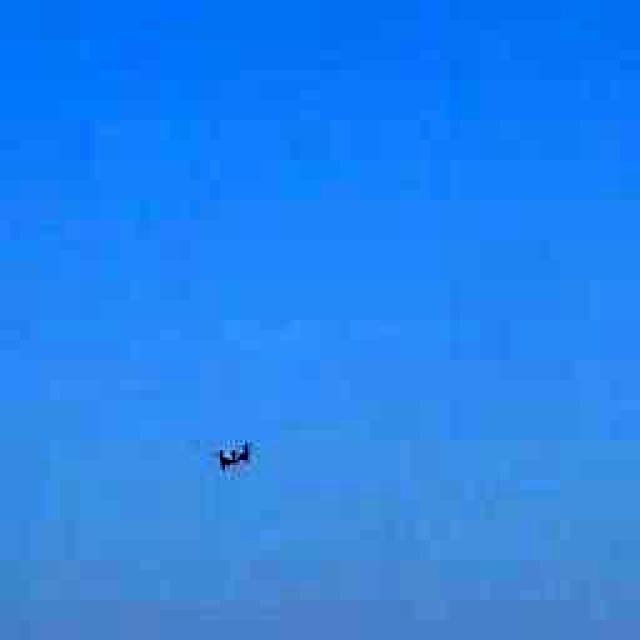bird: (200, 426, 265, 481)
